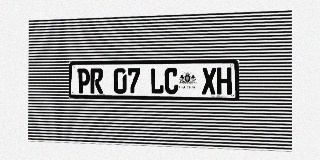0: (113, 68, 127, 94)
7: (127, 68, 140, 94)
C: (164, 68, 178, 94)
H: (217, 67, 232, 95)
L: (150, 68, 164, 94)
P: (77, 68, 90, 93)
R: (90, 68, 103, 94)
X: (202, 67, 216, 94)
